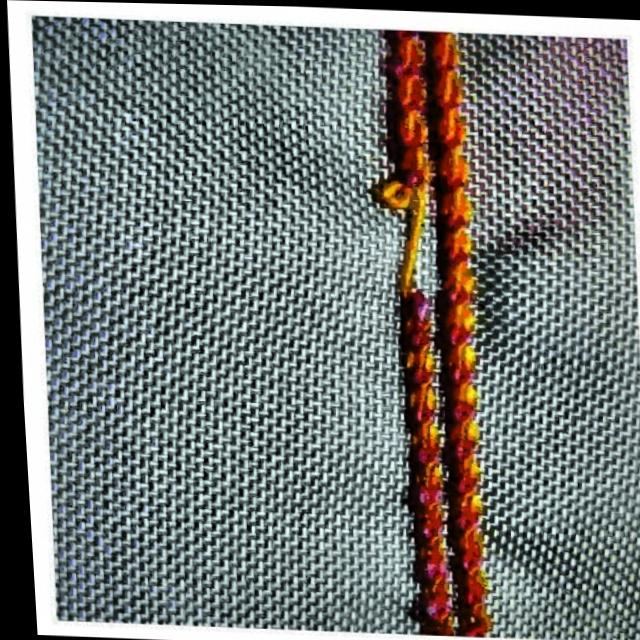Stitch: (362, 162, 459, 323)
